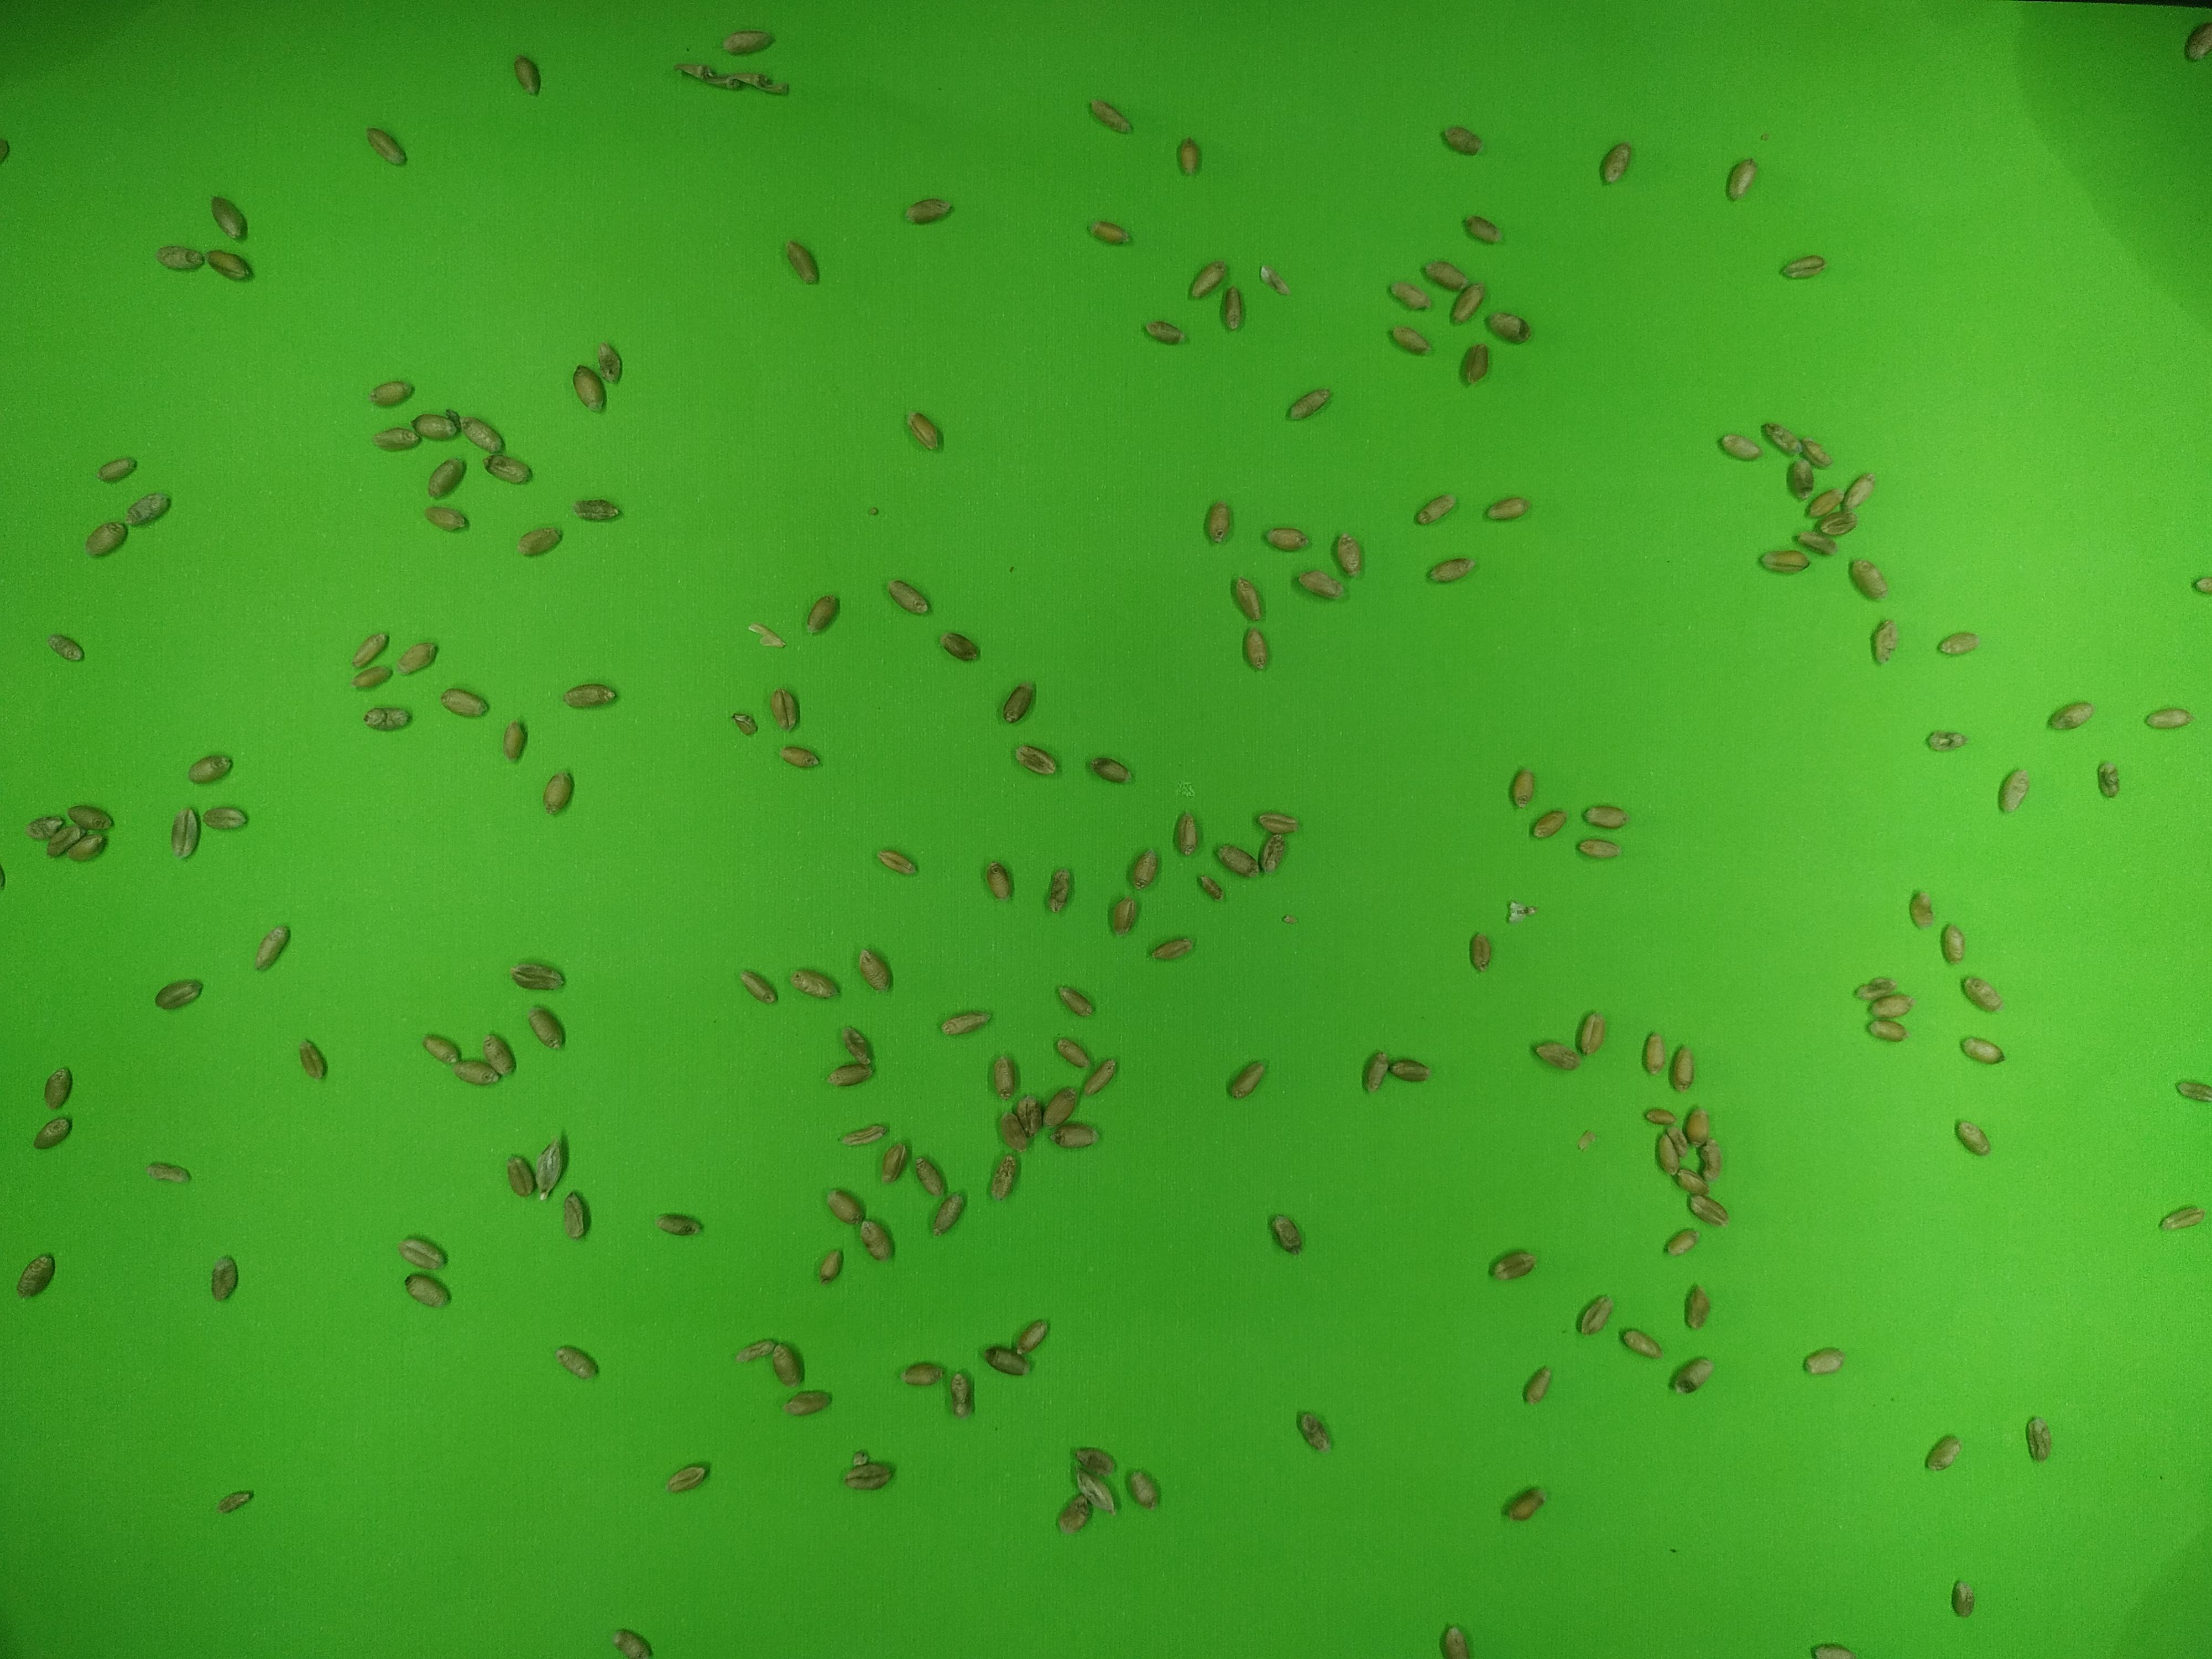bueno: (984, 1044, 1025, 1105), (540, 760, 581, 820), (1294, 564, 1348, 608), (1571, 1004, 1612, 1062), (1484, 1245, 1541, 1285), (1329, 523, 1368, 581), (2096, 867, 2140, 918), (364, 124, 412, 171), (249, 919, 291, 972), (738, 961, 781, 1012), (857, 1216, 900, 1267), (885, 575, 934, 619), (204, 1253, 246, 1305), (1413, 487, 1463, 530), (570, 359, 612, 411), (401, 1273, 453, 1314), (438, 681, 491, 722), (1197, 495, 1234, 554), (1663, 1036, 1703, 1089), (495, 713, 537, 764), (901, 1347, 940, 1401), (1167, 132, 1211, 181), (854, 940, 892, 997), (154, 239, 208, 278), (782, 237, 821, 290), (207, 190, 248, 242), (1780, 246, 1832, 285), (1573, 1291, 1616, 1338), (875, 1136, 917, 1185), (169, 802, 201, 864), (1934, 918, 1973, 968), (1213, 285, 1251, 336), (38, 1063, 75, 1117), (983, 1335, 1027, 1379), (1460, 208, 1504, 253), (1280, 387, 1334, 422), (197, 799, 246, 838), (806, 589, 842, 643), (561, 678, 621, 709), (551, 1347, 604, 1382), (1002, 675, 1040, 726), (901, 191, 954, 227), (482, 1028, 517, 1081), (122, 488, 169, 528), (14, 1255, 55, 1300), (1014, 740, 1061, 780), (1533, 1034, 1580, 1073), (731, 1335, 782, 1371), (824, 1184, 866, 1228), (419, 503, 477, 534), (1678, 1102, 1714, 1152), (485, 449, 531, 489), (1953, 1112, 1991, 1159), (1053, 1117, 1099, 1156), (718, 28, 778, 58), (931, 1191, 969, 1238), (1574, 799, 1627, 833), (1125, 1467, 1166, 1510), (85, 518, 129, 559), (1228, 571, 1264, 622), (1237, 622, 1269, 678), (556, 1189, 591, 1240), (1596, 139, 1634, 186), (514, 525, 565, 559), (1420, 258, 1469, 294), (1105, 891, 1142, 938), (1448, 281, 1484, 328), (1051, 1036, 1095, 1074), (1486, 309, 1532, 346), (1661, 1222, 1702, 1264), (591, 340, 625, 391), (457, 418, 506, 452), (293, 1041, 332, 1086), (426, 456, 465, 500), (1840, 470, 1882, 510), (1958, 1030, 2001, 1070), (501, 1156, 537, 1203), (1460, 341, 1492, 394), (1680, 1282, 1715, 1329), (347, 629, 388, 670), (410, 407, 452, 446), (1765, 416, 1803, 460), (980, 854, 1013, 904), (1804, 1344, 1846, 1384), (1722, 156, 1756, 205), (527, 1004, 561, 1052), (1925, 1430, 1959, 1479), (1623, 1323, 1660, 1367), (1382, 1057, 1434, 1088), (1171, 811, 1206, 857), (810, 1248, 850, 1288), (1224, 1065, 1265, 1104), (399, 637, 439, 677), (2023, 1414, 2056, 1463), (1517, 1367, 1558, 1406), (1866, 990, 1921, 1019), (946, 1366, 977, 1417), (904, 412, 942, 455), (1437, 126, 1485, 159), (787, 1385, 835, 1418), (766, 684, 799, 732), (1389, 276, 1432, 312), (1089, 754, 1134, 790), (1960, 974, 2000, 1014), (1505, 1485, 1545, 1525), (457, 1050, 492, 1096), (1996, 769, 2031, 815), (912, 1160, 952, 1199), (1053, 984, 1098, 1019), (1259, 804, 1296, 846), (1039, 1085, 1083, 1120), (1087, 217, 1136, 248), (1532, 804, 1571, 844), (1691, 1193, 1732, 1230), (1791, 525, 1841, 555), (1501, 770, 1538, 811), (1479, 495, 1533, 523), (1636, 1032, 1670, 1077), (1850, 978, 1902, 1006), (1214, 841, 1256, 877), (938, 628, 981, 664), (1128, 846, 1161, 891), (399, 1234, 442, 1269), (1847, 557, 1884, 598), (1815, 511, 1863, 542), (1082, 1056, 1123, 1092), (148, 1157, 196, 1187), (1187, 261, 1229, 295), (1721, 427, 1759, 465), (100, 451, 138, 489), (48, 630, 85, 669), (351, 662, 396, 694), (989, 1154, 1019, 1203), (1786, 455, 1816, 503), (1425, 555, 1474, 584), (1388, 323, 1433, 355), (1437, 1620, 1474, 1659), (1676, 1356, 1714, 1393), (1011, 1320, 1051, 1357), (844, 1460, 894, 1489), (1938, 625, 1982, 658), (2162, 1204, 2206, 1236), (419, 1031, 460, 1066), (1141, 316, 1187, 347), (186, 754, 229, 786), (665, 1464, 709, 1496), (875, 846, 918, 878), (2051, 702, 2095, 733), (1360, 1051, 1392, 1095), (514, 52, 544, 98), (1091, 98, 1130, 133), (1907, 888, 1937, 933), (776, 743, 825, 771), (1764, 545, 1806, 577), (1922, 727, 1970, 754), (371, 377, 414, 408), (766, 1347, 803, 1383), (1266, 524, 1307, 556), (1946, 1577, 1977, 1619), (1657, 1126, 1681, 1181), (69, 832, 107, 865), (658, 1209, 699, 1240), (38, 1116, 75, 1150), (1867, 1015, 1911, 1044), (160, 978, 200, 1009), (377, 420, 415, 453), (940, 1009, 984, 1036), (50, 821, 84, 857), (614, 1626, 650, 1659), (216, 1486, 257, 1515), (1799, 438, 1835, 471), (837, 1058, 873, 1091), (1812, 488, 1844, 524), (1580, 834, 1615, 867), (1152, 936, 1194, 963), (1639, 1103, 1682, 1128), (2155, 702, 2187, 736), (902, 1363, 946, 1385), (2098, 756, 2121, 797), (989, 1063, 1019, 1094), (64, 805, 107, 826), (1470, 937, 1493, 973), (2179, 1078, 2212, 1101), (1369, 1055, 1395, 1082), (1948, 924, 1960, 965), (1485, 158, 1491, 158)
danado: (504, 960, 569, 994), (1040, 860, 1079, 916), (1266, 1209, 1308, 1256), (1865, 618, 1902, 671), (790, 969, 843, 1005), (841, 1020, 878, 1072), (995, 1110, 1033, 1157), (366, 700, 414, 735), (19, 809, 62, 846), (1259, 827, 1290, 879), (1296, 1412, 1332, 1455), (1697, 1140, 1731, 1184), (1192, 871, 1229, 906), (575, 495, 621, 523), (837, 1122, 882, 1150), (1076, 1444, 1111, 1478)
impureza: (671, 58, 797, 102), (1070, 1460, 1121, 1524), (534, 1127, 565, 1208), (1050, 1491, 1098, 1538), (204, 248, 256, 284), (1503, 889, 1542, 931), (1255, 259, 1292, 297), (743, 618, 786, 649), (1573, 1126, 1603, 1152), (729, 709, 758, 736), (849, 1450, 875, 1471)
